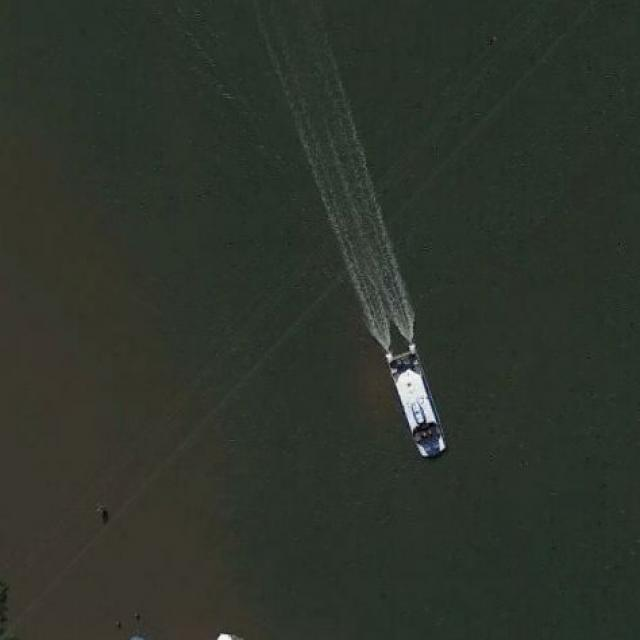ship: (380, 339, 446, 458)
